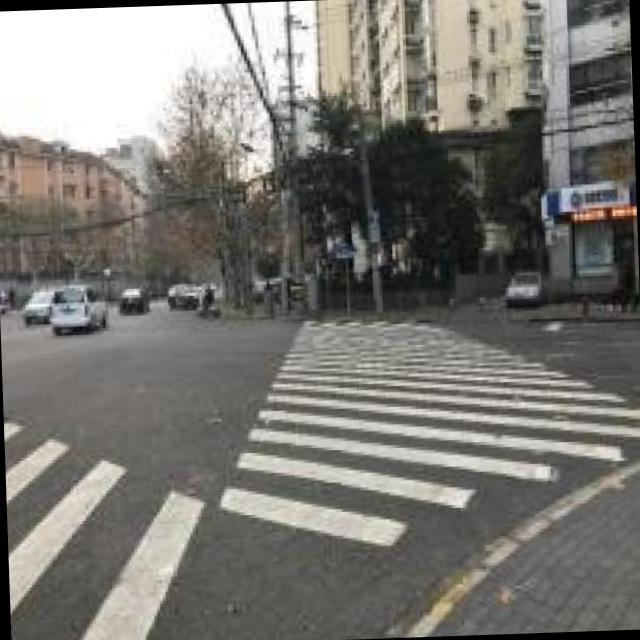zebra: (209, 308, 640, 567), (2, 393, 222, 640)
